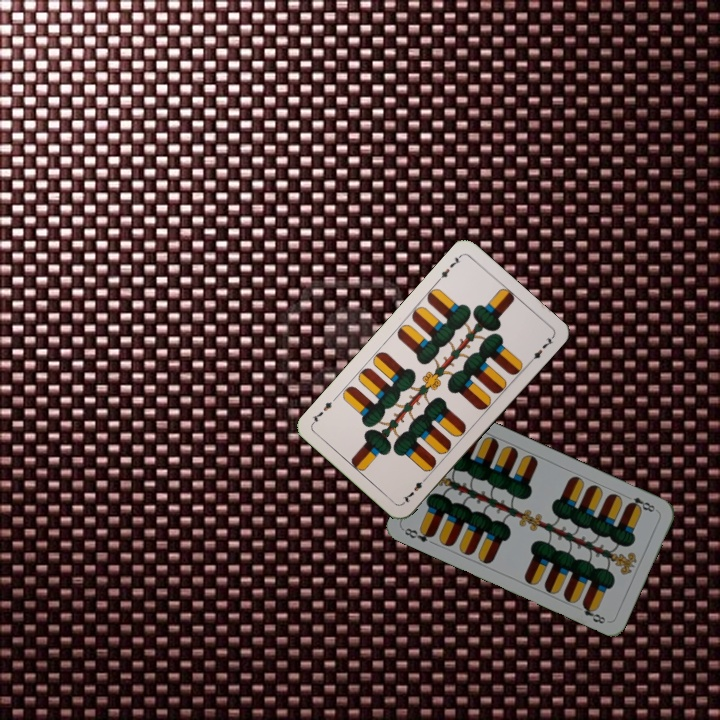E7: (398, 473, 430, 506), (433, 251, 464, 284)
E8: (623, 493, 660, 515), (400, 524, 437, 545)
